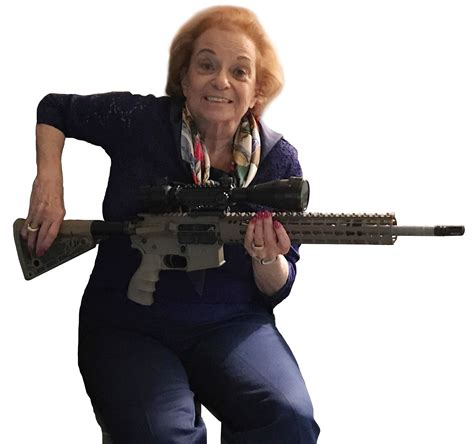gun: (12, 174, 466, 306)
